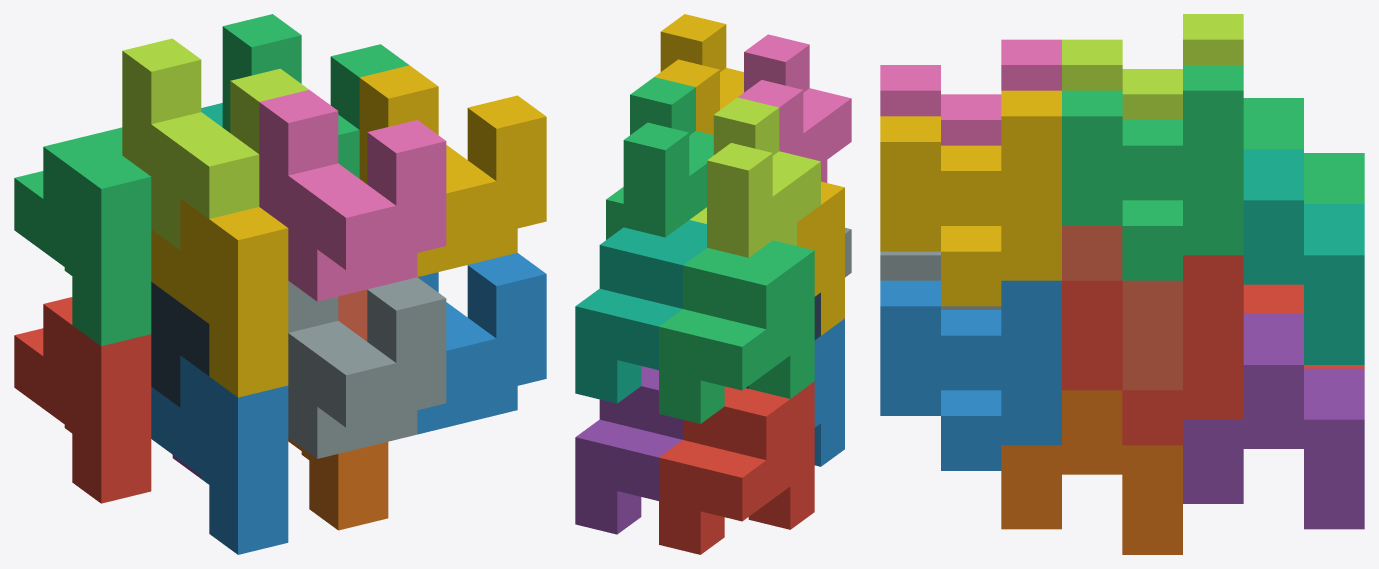
The model's file is tiling.obj.
3 views of the same model, side by side, from view 1: azimuth 30°, elevation 25°; view 2: azimuth 150°, elevation 25°; view 3: azimuth 270°, elevation 25° (orthographic). The views are drawn at different scales.
Visible parts, largest first — view 1: copy_2_domain_4, copy_2_domain_2, copy_1_domain_3, copy_2_domain_3, copy_2_domain_8, copy_1_domain_4, copy_1_domain_1, copy_1_domain_2, copy_2_domain_6, copy_2_domain_7, copy_1_domain_6, copy_2_domain_1 (+1 smaller); view 2: copy_1_domain_3, copy_1_domain_1, copy_1_domain_7, copy_2_domain_3, copy_2_domain_7, copy_1_domain_5, copy_2_domain_4, copy_2_domain_8, copy_1_domain_4, copy_1_domain_2; view 3: copy_2_domain_8, copy_2_domain_7, copy_2_domain_6, copy_1_domain_5, copy_2_domain_5, copy_1_domain_7, copy_1_domain_6, copy_1_domain_8, copy_2_domain_4, copy_2_domain_3, copy_1_domain_3, copy_2_domain_2 (+1 smaller).
Part boxes in pixels (bbox=[...]): copy_2_domain_4: bbox=[259, 90, 446, 301]; copy_2_domain_2: bbox=[288, 277, 446, 458]; copy_1_domain_3: bbox=[14, 127, 151, 346]; copy_2_domain_3: bbox=[122, 38, 308, 249]; copy_2_domain_8: bbox=[359, 65, 546, 276]; copy_1_domain_4: bbox=[151, 198, 288, 397]; copy_1_domain_1: bbox=[14, 297, 151, 503]; copy_1_domain_2: bbox=[151, 355, 288, 554]; copy_2_domain_6: bbox=[417, 253, 546, 434]; copy_2_domain_7: bbox=[222, 14, 408, 178]; copy_1_domain_6: bbox=[288, 438, 388, 530]; copy_2_domain_1: bbox=[151, 282, 209, 407]; copy_1_domain_3: bbox=[659, 240, 814, 423]; copy_1_domain_1: bbox=[659, 381, 814, 554]; copy_1_domain_7: bbox=[575, 220, 706, 403]; copy_2_domain_3: bbox=[690, 97, 820, 257]; copy_2_domain_7: bbox=[606, 77, 713, 239]; copy_1_domain_5: bbox=[575, 366, 682, 534]; copy_2_domain_4: bbox=[738, 34, 851, 182]; copy_2_domain_8: bbox=[654, 14, 743, 134]; copy_1_domain_4: bbox=[797, 181, 844, 335]; copy_1_domain_2: bbox=[814, 318, 844, 466]; copy_2_domain_8: bbox=[880, 90, 1061, 306]; copy_2_domain_7: bbox=[1062, 65, 1243, 280]; copy_2_domain_6: bbox=[880, 280, 1061, 470]; copy_1_domain_5: bbox=[1183, 313, 1364, 529]; copy_2_domain_5: bbox=[1062, 255, 1243, 445]; copy_1_domain_7: bbox=[1243, 149, 1364, 364]; copy_1_domain_6: bbox=[1001, 390, 1182, 554]; copy_1_domain_8: bbox=[1062, 226, 1182, 390]; copy_2_domain_4: bbox=[880, 39, 1061, 145]; copy_2_domain_3: bbox=[1062, 14, 1243, 119]; copy_1_domain_3: bbox=[1243, 98, 1364, 203]; copy_2_domain_2: bbox=[880, 251, 1001, 309].
Bounding box in the file's own units: 6 × 8 × 8.
